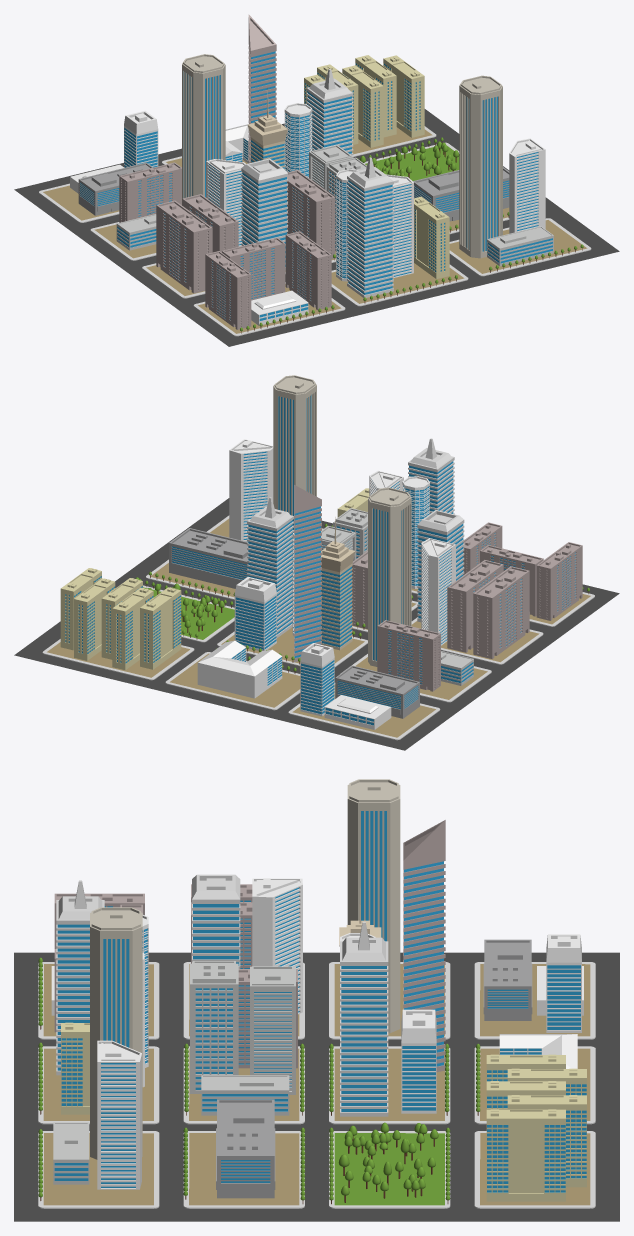
The model's file is lowpoly_city.glb.
The picture shows the model from 3 angles, top to bottom: view 1: azimuth 30°, elevation 25°; view 2: azimuth 150°, elevation 25°; view 3: azimuth 270°, elevation 25°; orthographic projection. The views are drawn at different scales.
Parts seen in each view (by area): view 1: Plane_0, Plane.001_1, Cube.057_62, Cube.055_60, Cube.007_10, Cube.010_14, Cube.008_11, Plane.005_63, Cube.001_3, Cube.052_57, Cube.004_6, Cube.053_58 (+24 smaller); view 2: Plane_0, Plane.001_1, Cube.007_10, Cube.057_62, Cube.006_9, Cube.010_14, Cube.004_6, Cube.009_12, Plane.005_63, Cube.061_67, Cube.049_54, Cube.005_7 (+23 smaller); view 3: Plane_0, Plane.001_1, Cube.007_10, Cube.004_6, Cube.057_62, Cube.006_9, Cube.015_20, Plane.003_13, Plane.005_63, Cube.009_12, Cube.003_5, Cube_2 (+19 smaller).
Boxes of the visible parts, x1,y1,x2,y2 form: Plane_0: (14, 109, 619, 346); Plane.001_1: (39, 126, 591, 336); Cube.057_62: (459, 75, 502, 258); Cube.055_60: (347, 157, 393, 297); Cube.007_10: (182, 54, 225, 205); Cube.010_14: (156, 200, 212, 293); Cube.008_11: (241, 158, 287, 270); Plane.005_63: (509, 138, 545, 233); Cube.001_3: (287, 170, 335, 259); Cube.052_57: (205, 251, 251, 329); Cube.004_6: (306, 69, 353, 155); Cube.053_58: (285, 231, 331, 310); Plane_0: (14, 498, 619, 750); Plane.001_1: (42, 515, 594, 740); Cube.007_10: (368, 487, 411, 666); Cube.057_62: (273, 375, 316, 532); Cube.006_9: (294, 485, 321, 662); Cube.010_14: (473, 566, 529, 659); Cube.004_6: (247, 497, 293, 637); Cube.009_12: (169, 528, 248, 588); Plane.005_63: (229, 439, 273, 541); Cube.061_67: (377, 620, 440, 691); Cube.049_54: (197, 640, 282, 698); Cube.005_7: (321, 517, 355, 650); Plane_0: (14, 952, 619, 1221); Plane.001_1: (38, 962, 595, 1208); Cube.007_10: (347, 779, 400, 1033); Cube.004_6: (340, 921, 388, 1116); Cube.057_62: (90, 907, 142, 1159); Cube.006_9: (403, 820, 445, 1072); Cube.015_20: (486, 1109, 565, 1201); Plane.003_13: (329, 1131, 450, 1208); Plane.005_63: (97, 1040, 141, 1189); Cube.009_12: (216, 1099, 275, 1198); Cube.003_5: (190, 961, 238, 1093); Cube_2: (250, 966, 295, 1094).
Bounding box in the file's own units: 10.5 × 4.59 × 10.
